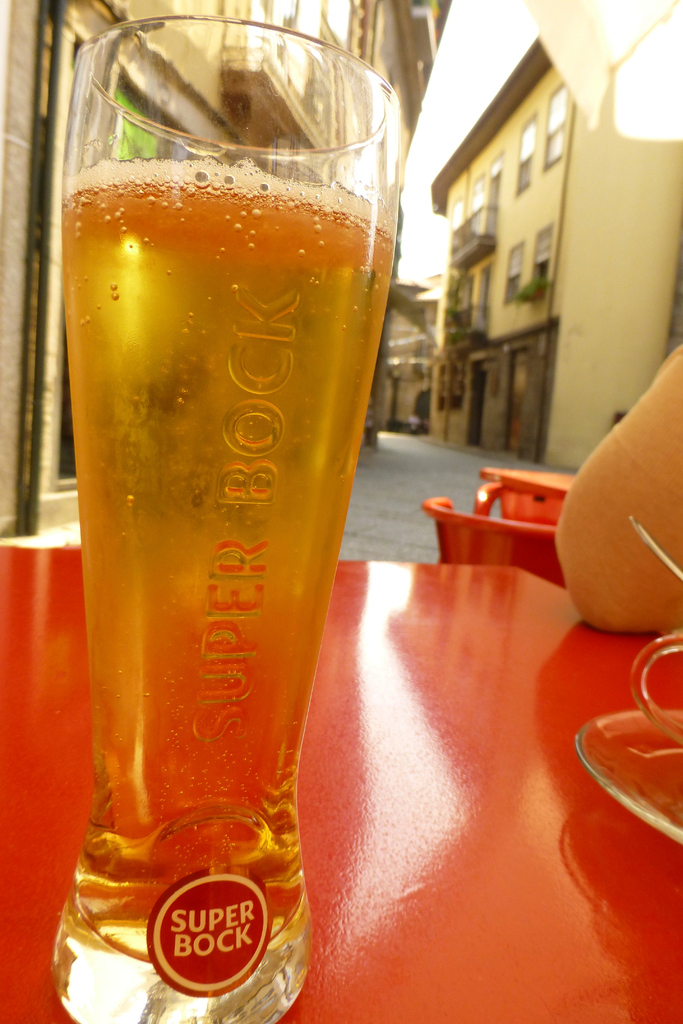Beer: (69, 161, 387, 960)
